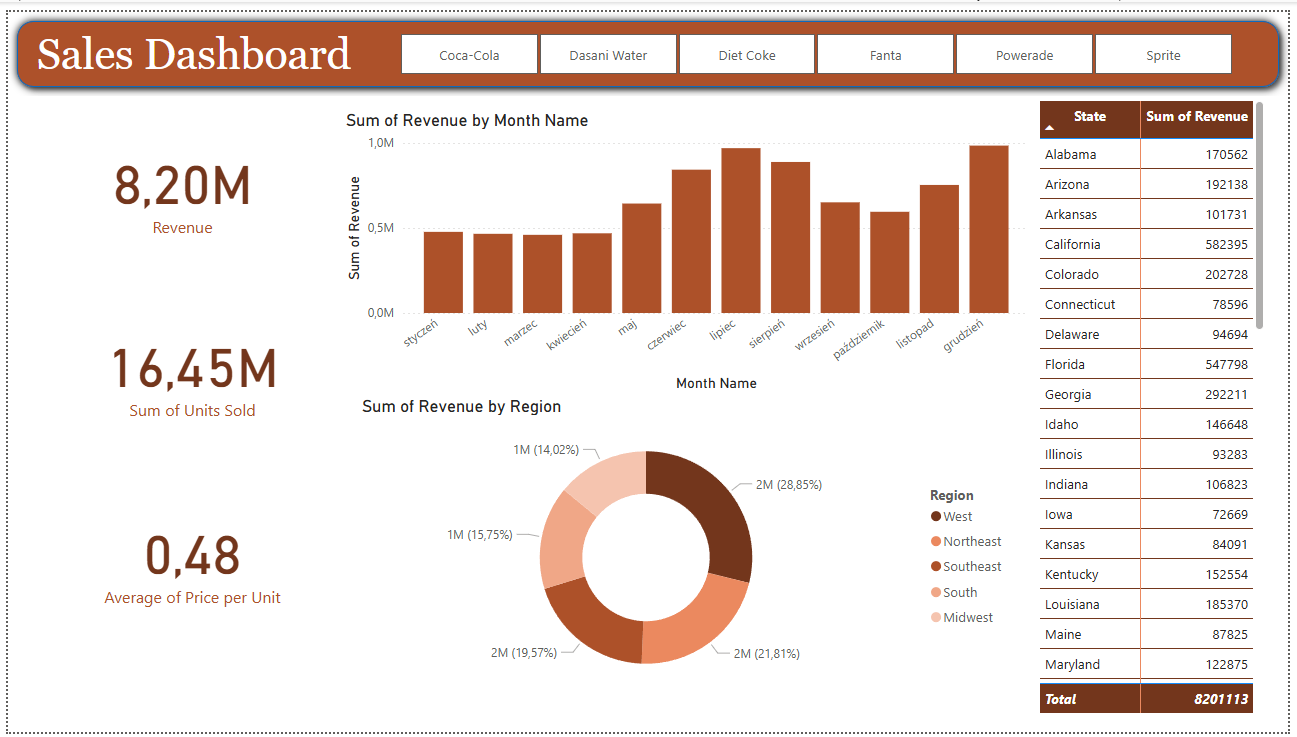

The page's visual inventory and layout, read from the dashboard file:
{"tool":"powerbi","page":{"name":"Page 1","canvas":[1280,720],"ordinal":0},"visuals":[{"type":"shape","box":[0,0,1280.4,84.1],"z":0},{"type":"shape","box":[18.6,97.7,330.3,157.1],"z":1000},{"type":"shape","box":[18.6,280.8,330.3,157.1],"z":2000},{"type":"shape","box":[9.9,467.6,348.9,157.1],"z":3000},{"type":"card","fields":{"Values":["Sum(Data.Revenue)"]},"box":[0,97.7,348.9,157.1],"z":4000},{"type":"card","fields":{"Values":["Sum(Data.Units Sold)"]},"box":[9.9,280.8,348.9,157.1],"z":5000},{"type":"card","fields":{"Values":["Avg(Data.Price per Unit)"]},"box":[9.9,467.6,348.9,157.1],"z":6000},{"type":"columnChart","fields":{"Category":["Data.Month Name"],"Y":["Sum(Data.Revenue)"]},"box":[332.8,97.7,692.8,285.8],"z":7000},{"type":"tableEx","fields":{"Values":["Data.State","Sum(Data.Revenue)"]},"box":[1025.6,84.1,235.1,622.3],"z":7001},{"type":"slicer","fields":{"Values":["Data.Beverage Brand"]},"box":[367.4,14.8,880.8,54.4],"z":7002},{"type":"donutChart","fields":{"Y":["Sum(Data.Revenue)"],"Category":["Data.Region"]},"box":[348.9,383.5,659.4,304.3],"z":7003}]}

Visuals, with their boxes in screenshot pixels (x1, y1, x2, y2), scaled from the page's 1280x720 canvas onto the 1297x737 screenshot:
shape: 0:0:1296:86
shape: 19:100:354:261
shape: 19:287:354:448
shape: 10:479:364:639
card - Sum(Data.Revenue): 0:100:354:261
card - Sum(Data.Units Sold): 10:287:364:448
card - Avg(Data.Price per Unit): 10:479:364:639
columnChart - Data.Month Name x Sum(Data.Revenue): 337:100:1039:393
tableEx - Data.State x Sum(Data.Revenue): 1039:86:1277:723
slicer - Data.Beverage Brand: 372:15:1265:71
donutChart - Sum(Data.Revenue) x Data.Region: 354:393:1022:704
